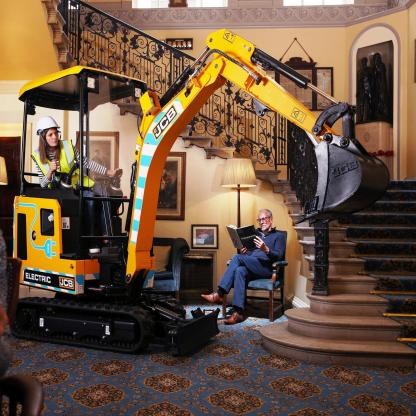excavator: (15, 23, 390, 362)
person: (203, 204, 299, 336), (32, 112, 116, 233)
